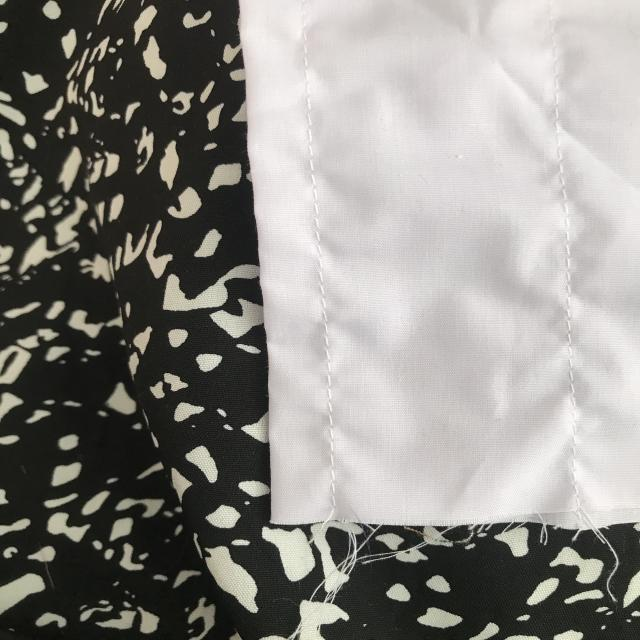good: (309, 264, 344, 411)
